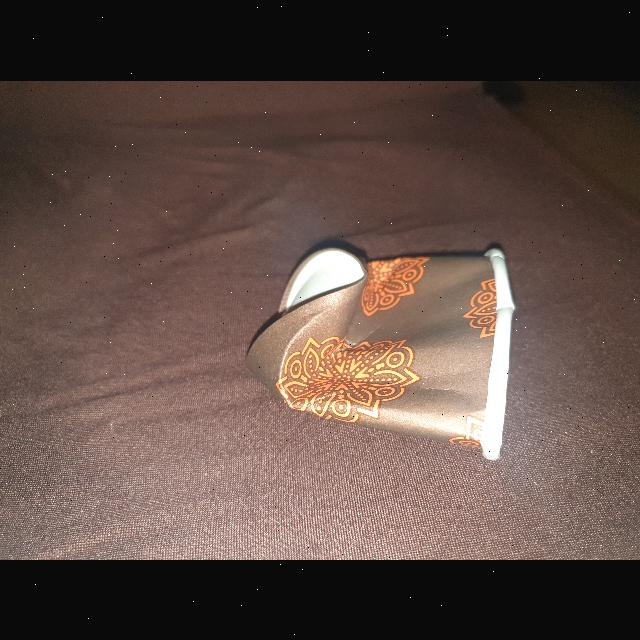trash: (242, 236, 528, 462)
